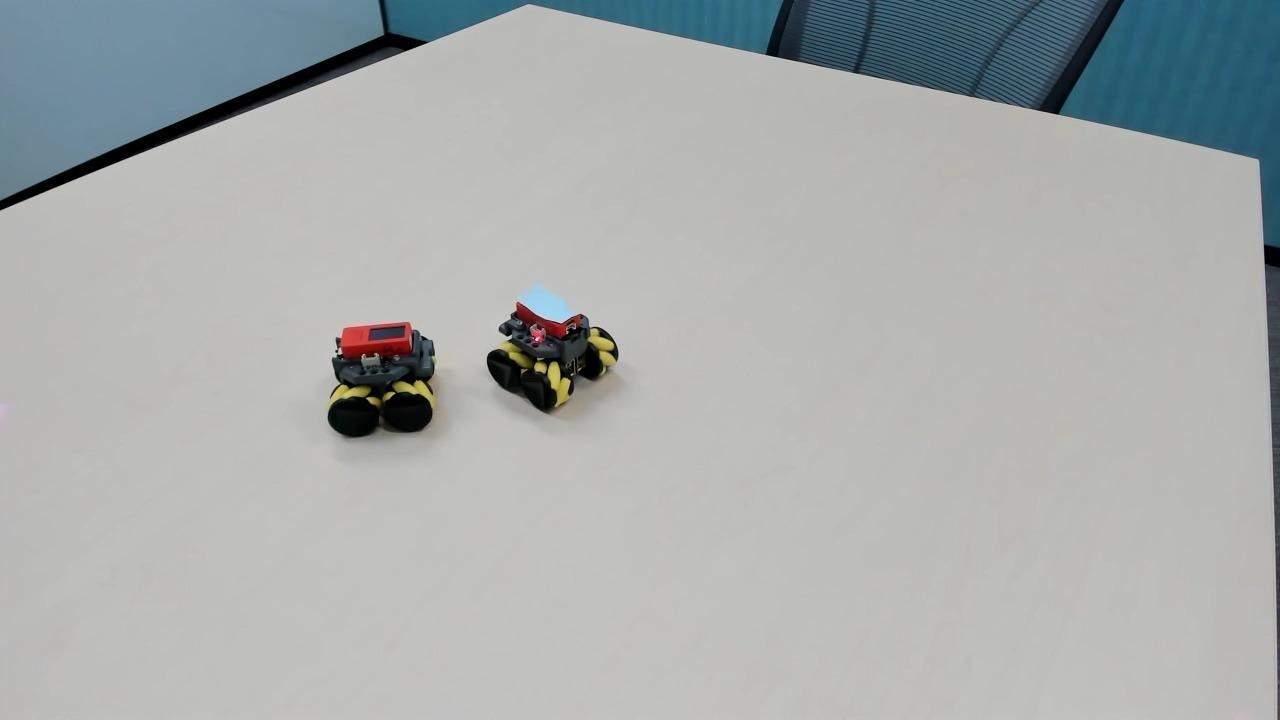B-Robot: (480, 278, 640, 430)
R-Robot: (301, 309, 446, 450)
